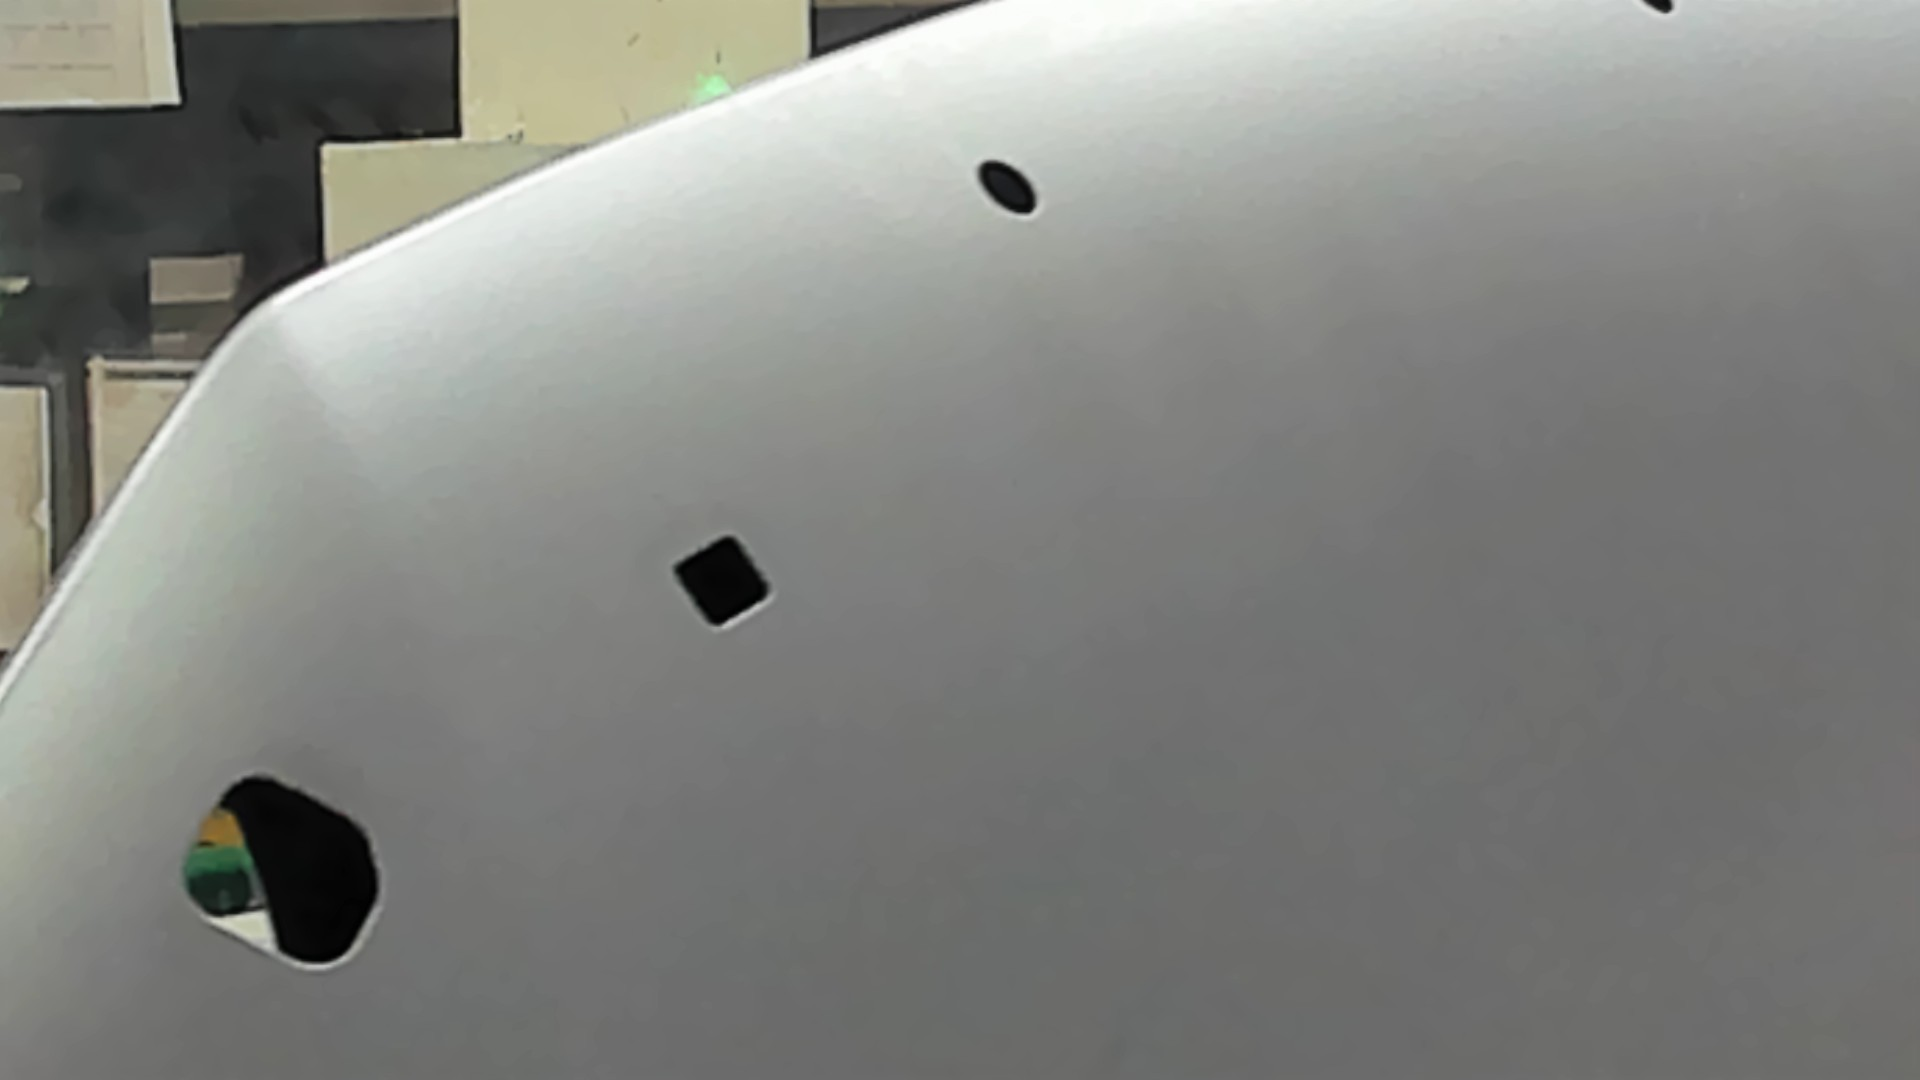chico: (961, 153, 1054, 220)
grande: (165, 764, 406, 1000)
mediano: (650, 514, 795, 638)
